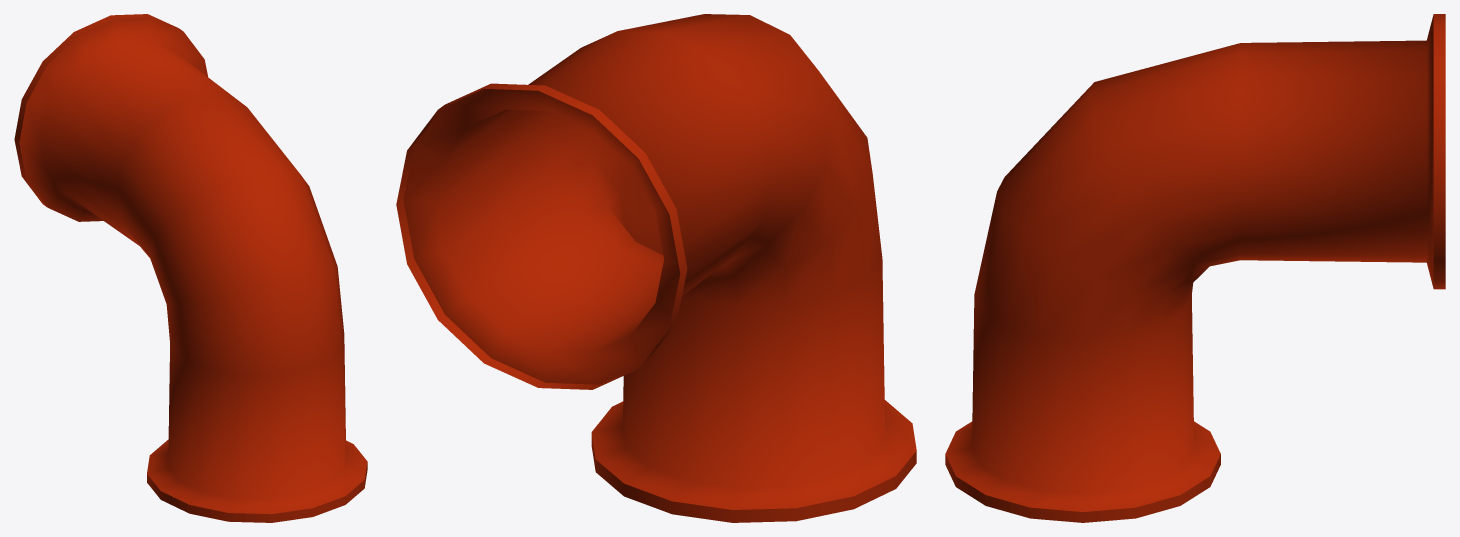
Rendered from sPipeC90_13_LOD0.FBX.
3 renders of one model, left to right at view 1: azimuth 30°, elevation 25°; view 2: azimuth 150°, elevation 25°; view 3: azimuth 270°, elevation 25°, orthographic. The views are drawn at different scales.
Visible parts, largest first — view 1: Pipe_up1_013_LOD0; view 2: Pipe_up1_013_LOD0; view 3: Pipe_up1_013_LOD0.
Part boxes in pixels (box(x1,y1,x2,y2)): Pipe_up1_013_LOD0: box(14, 14, 367, 522); Pipe_up1_013_LOD0: box(396, 14, 916, 522); Pipe_up1_013_LOD0: box(945, 14, 1445, 522).
Size of the model in its own units: 19 by 33.33 by 34.5.
